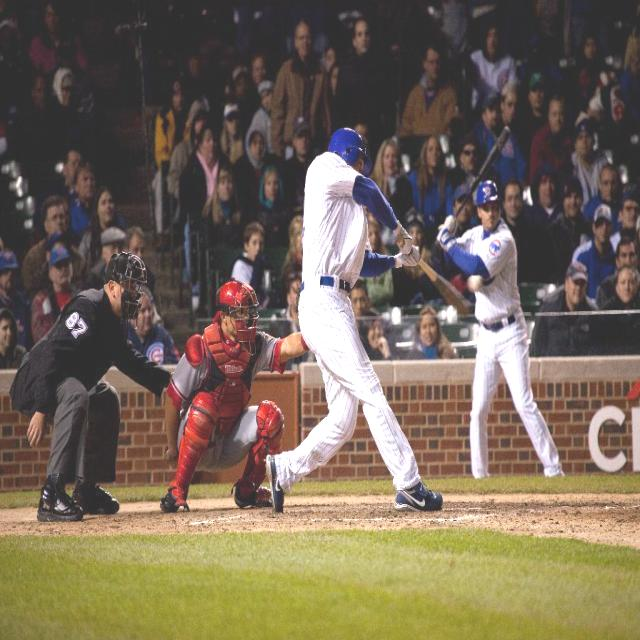ball: (468, 274, 484, 292)
bat: (454, 125, 514, 217), (422, 262, 474, 320)
